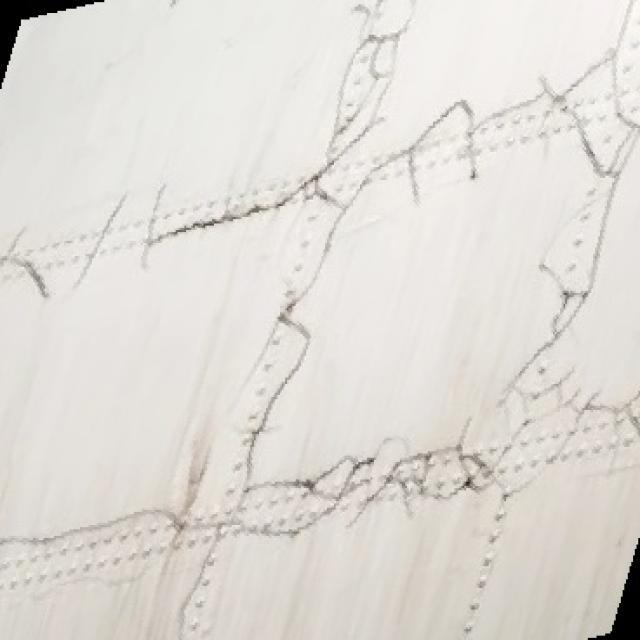crack: (5, 56, 640, 308), (172, 2, 414, 636), (9, 390, 638, 588), (484, 2, 638, 497)
